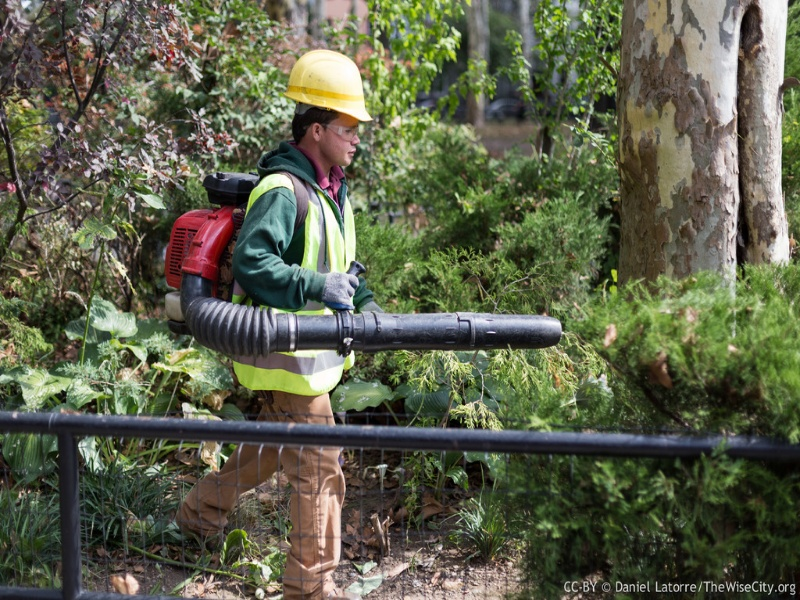Baret: (286, 49, 374, 123)
Gozluk: (323, 122, 361, 139)
